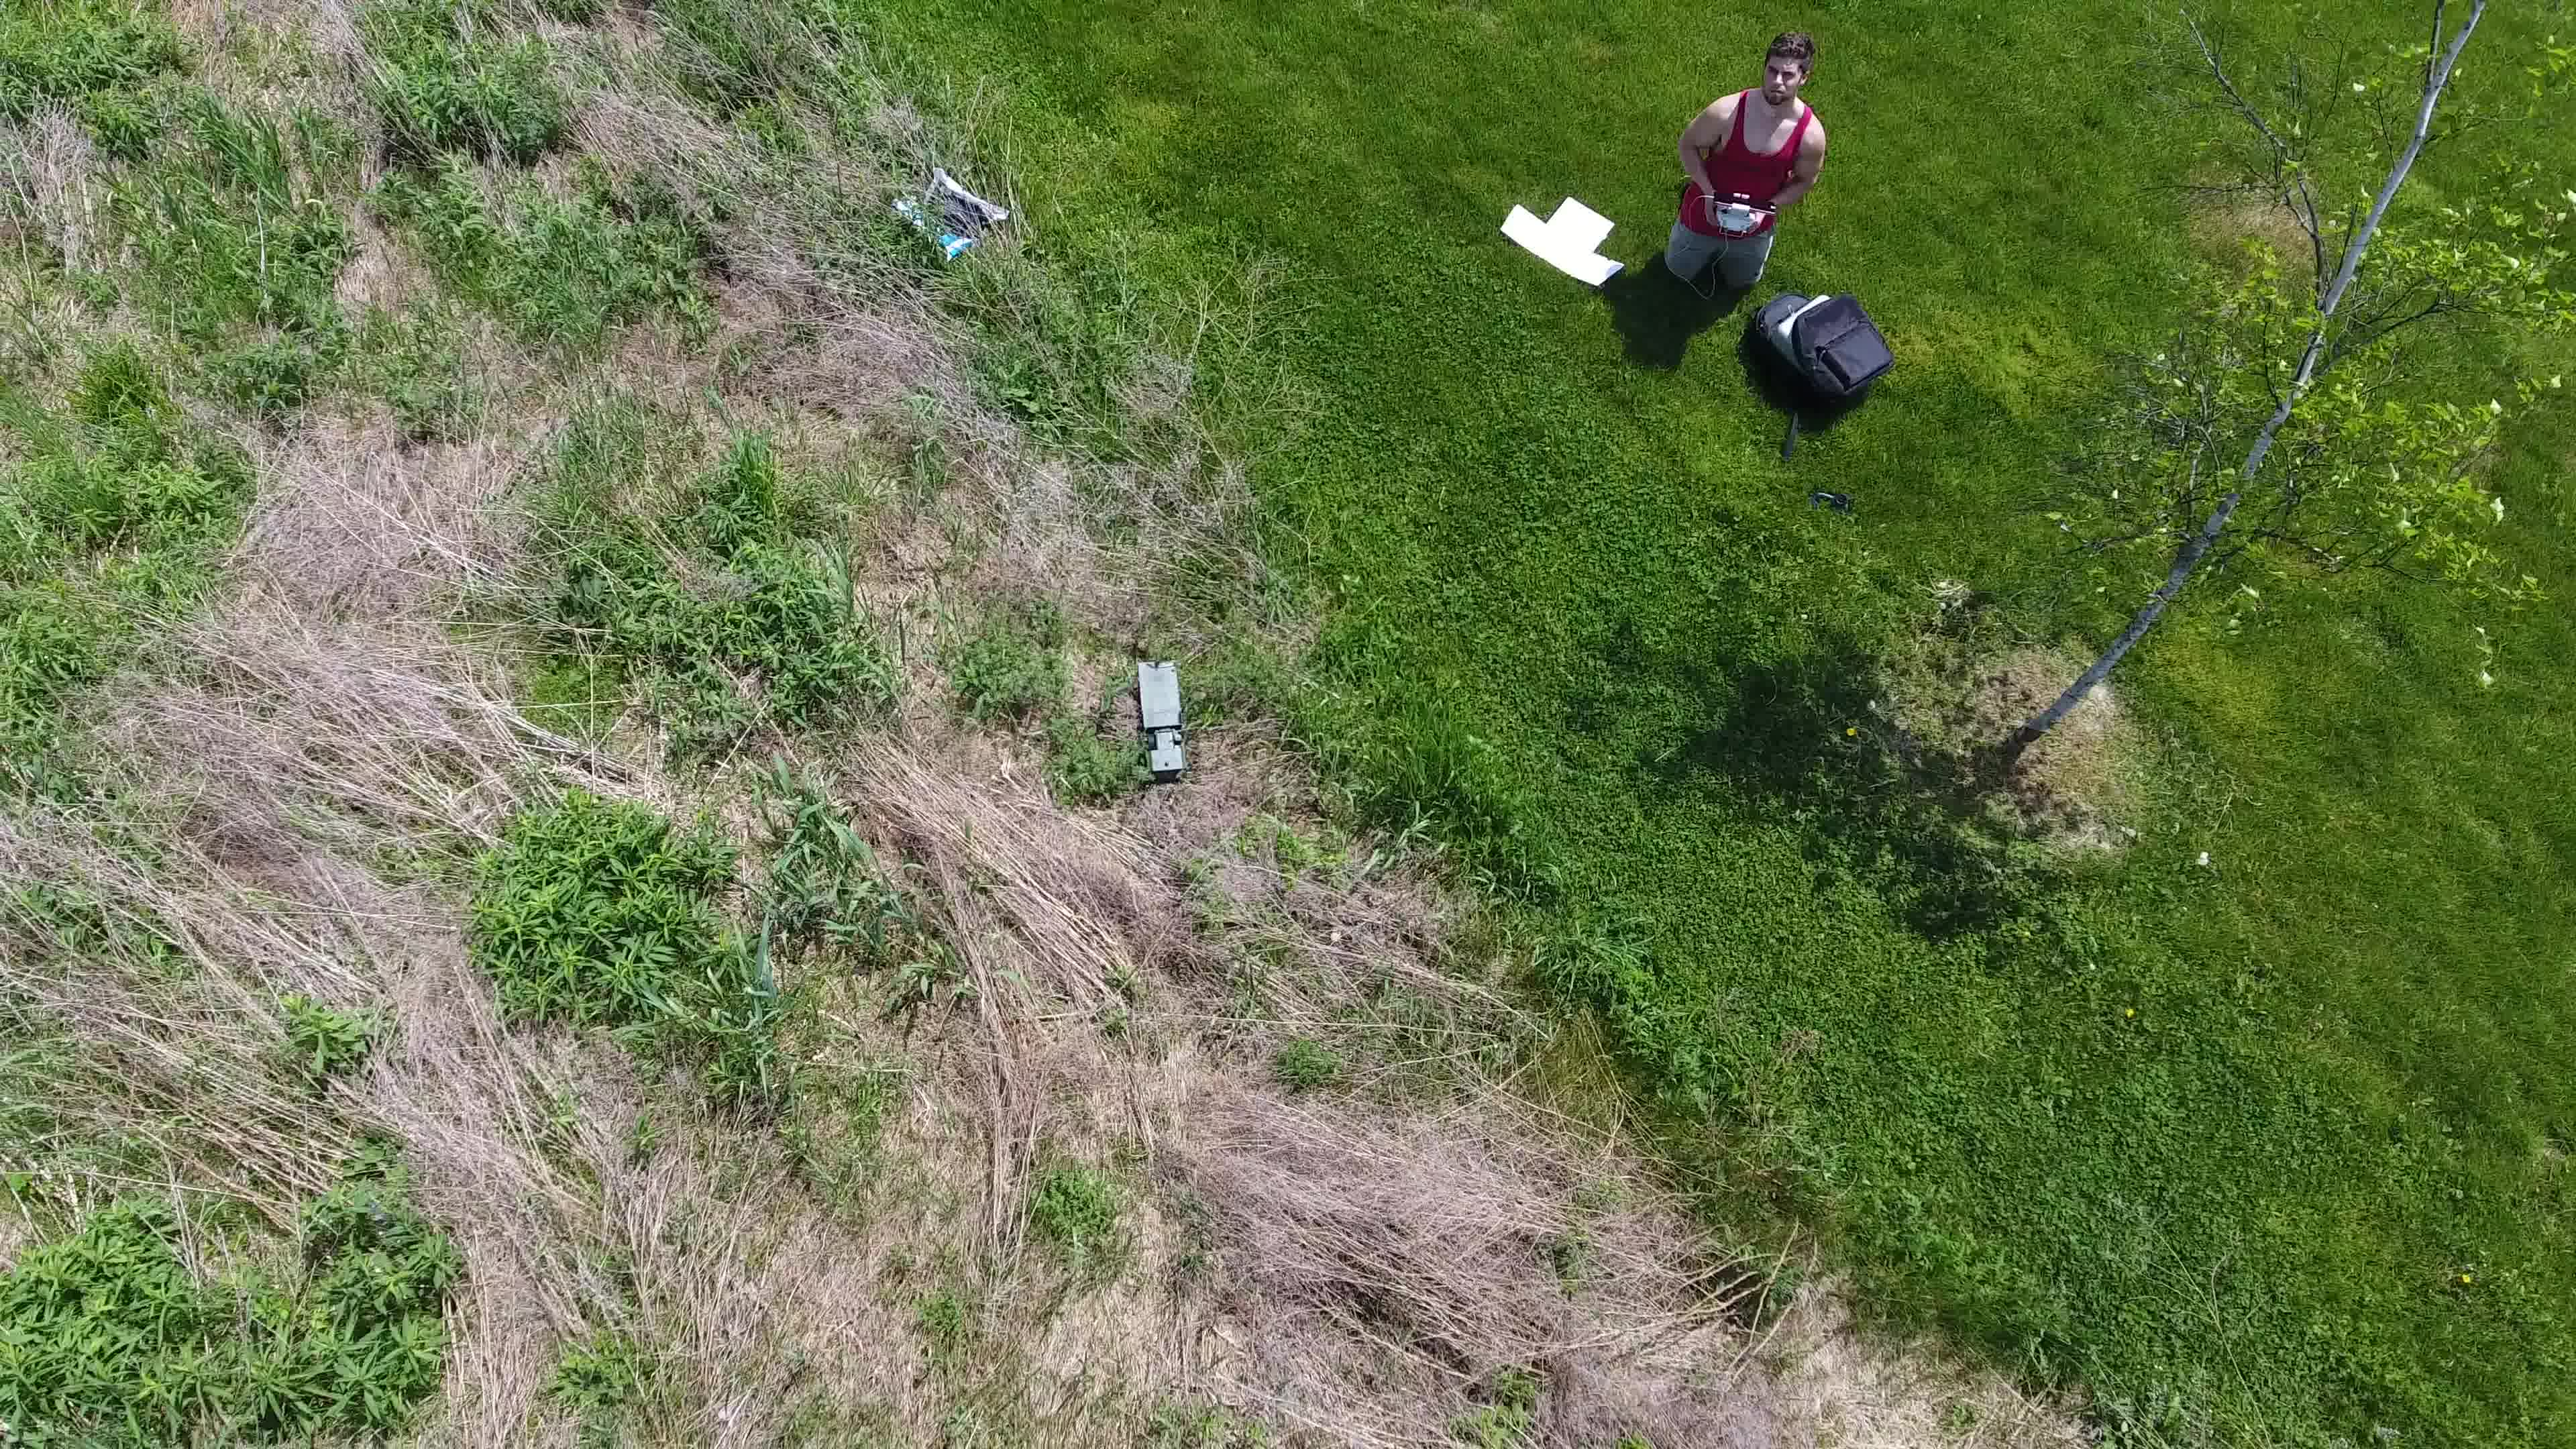transporter9: (1132, 658, 1194, 778)
